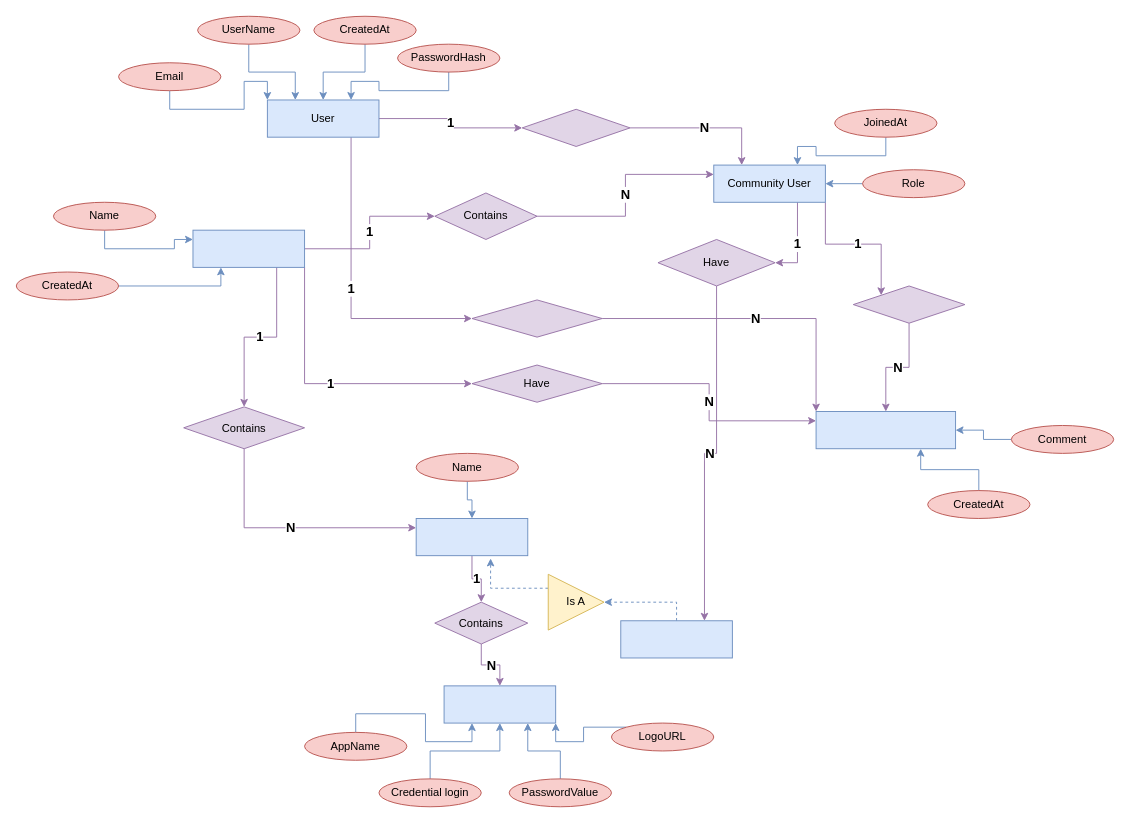
This 1130x823 diagram has some shape labels left out. The box of each missing label's shape, as (x1, y1, x2, y2) in pixels:
Base Category: (415, 518, 528, 556)
Can be: (521, 108, 630, 146)
Can receive: (471, 299, 602, 337)
Can Send: (852, 285, 965, 323)
Community: (192, 229, 305, 267)
Join Requests: (815, 411, 956, 449)
Password: (443, 685, 556, 723)
Private Category: (620, 620, 732, 658)
